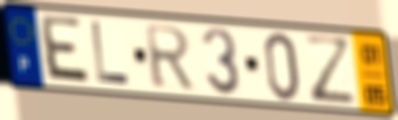0: (261, 29, 302, 103)
3: (200, 26, 242, 99)
E: (40, 13, 94, 88)
L: (89, 19, 132, 88)
R: (142, 23, 197, 91)
Z: (301, 32, 360, 106)
